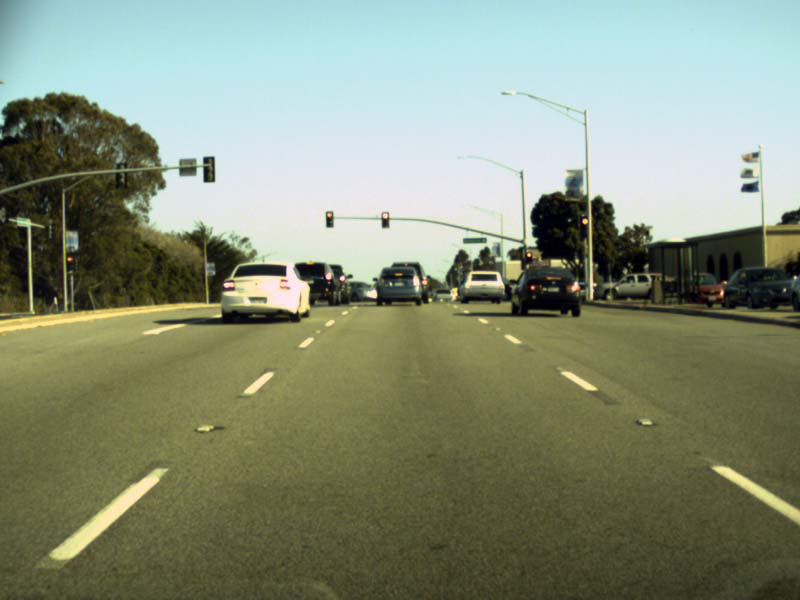Red: (325, 211, 334, 227), (65, 253, 74, 268), (580, 218, 587, 236), (381, 212, 388, 227), (525, 252, 532, 261)
